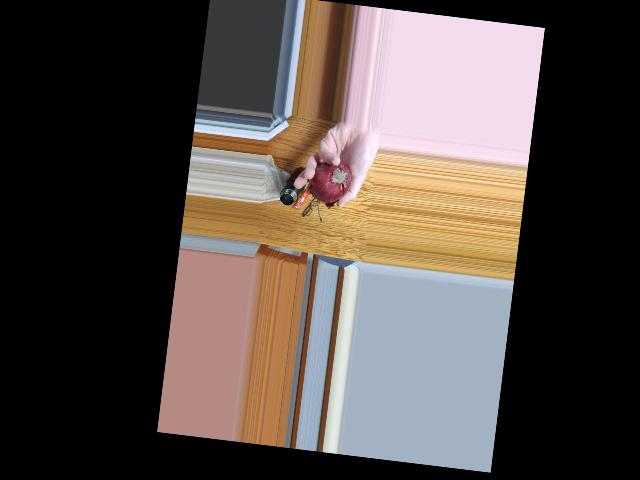onion: (308, 158, 355, 205)
